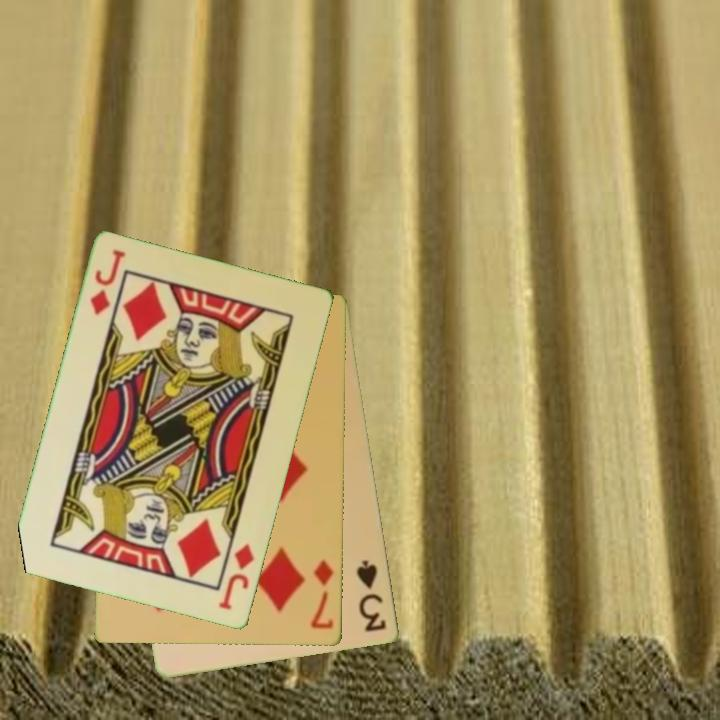3s: (353, 557, 390, 635)
7d: (308, 557, 337, 633)
Jd: (215, 541, 258, 614), (87, 246, 129, 319)
